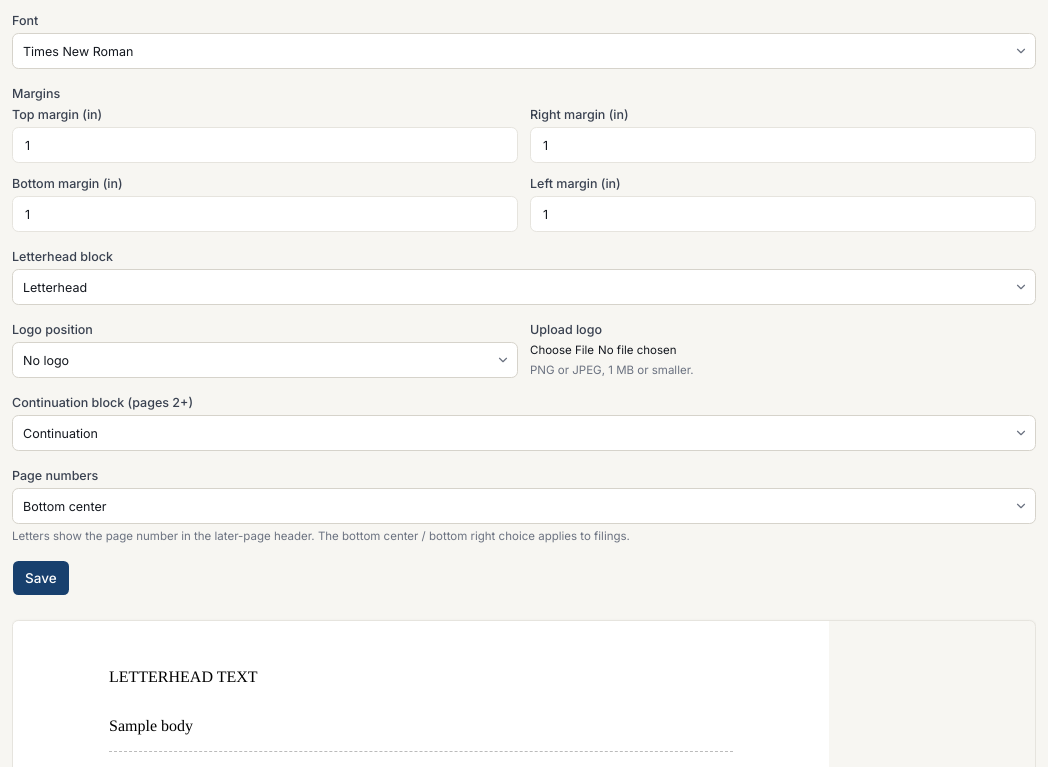
Test: DocumentStyleForm › stale save shows the error with a Reload action
This screenshot has width=1048, height=767.
Click the button "Save": click(41, 578) [12, 560, 70, 596]
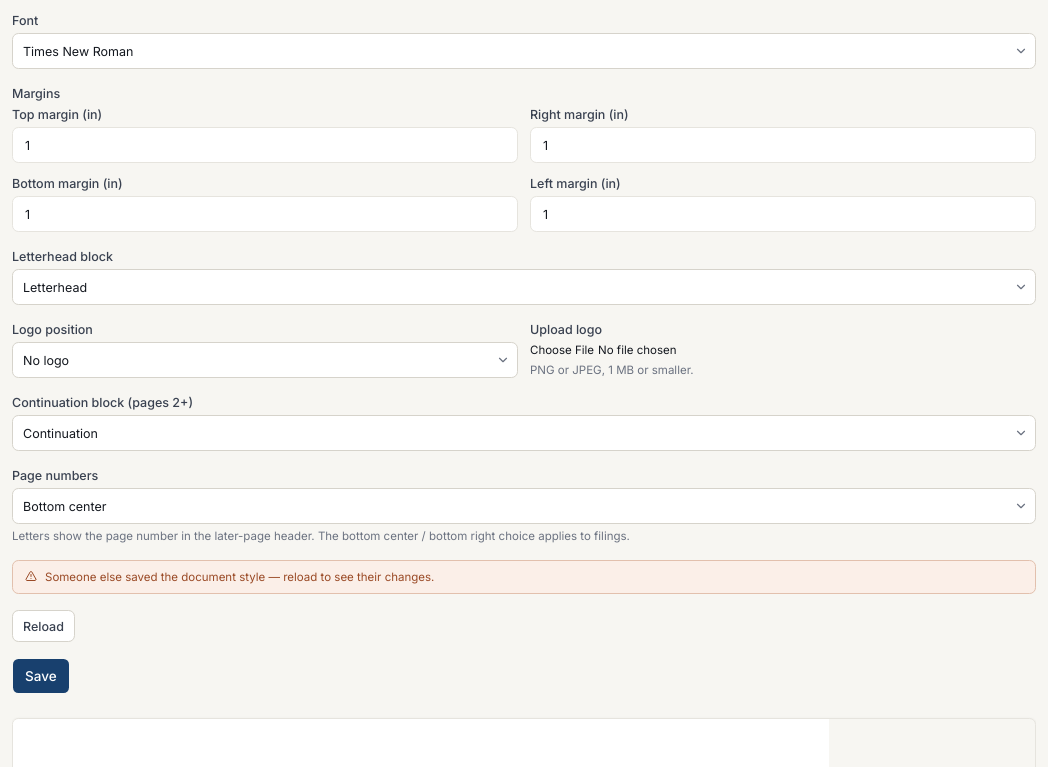
Expected: the text "Someone else saved the document style" is shown, [45, 570, 434, 584]
Expected: the button "Reload" is shown, [12, 610, 75, 642]
